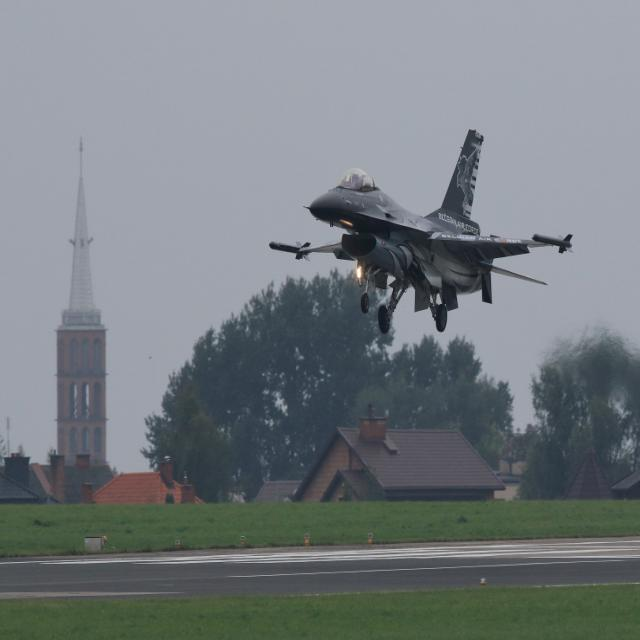MIL_Plane: (268, 128, 574, 334)
